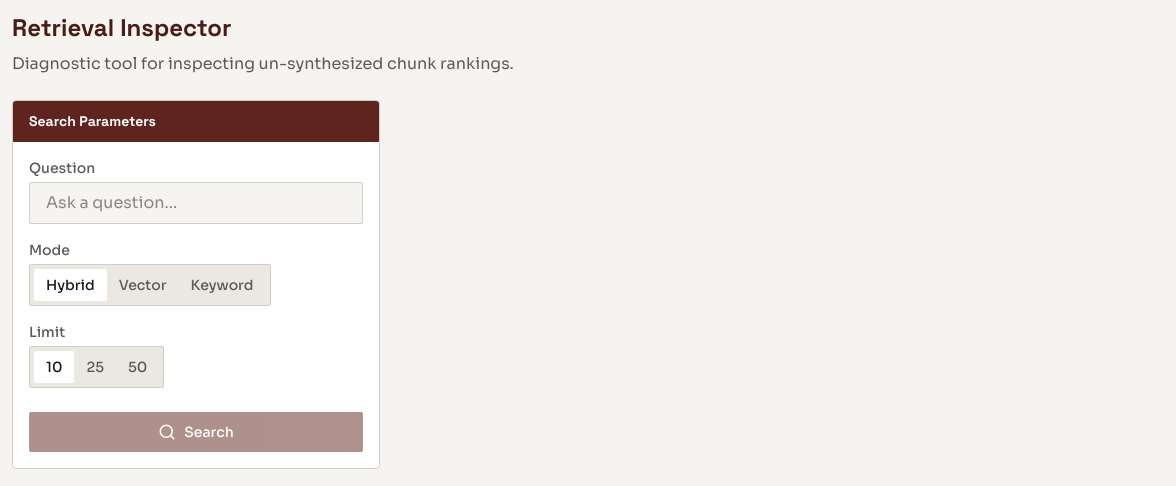
Test: SearchPage › distinguishes zero-match from idle
Type "gibberish" into the field with placeholder "Ask a question..." at [196, 203], box [29,182,363,224]
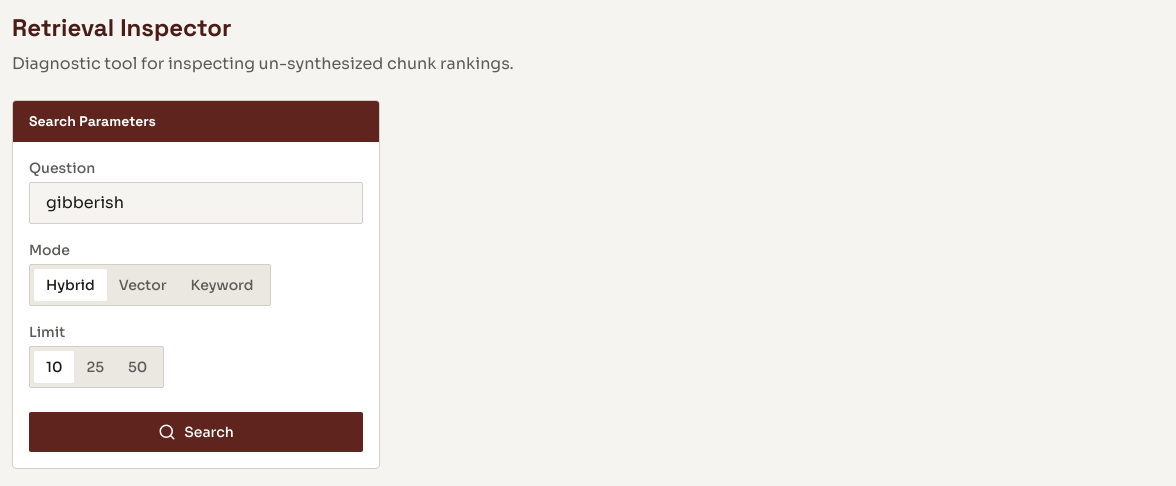
Click the button "Search" at [196, 432], box [29,412,363,452]
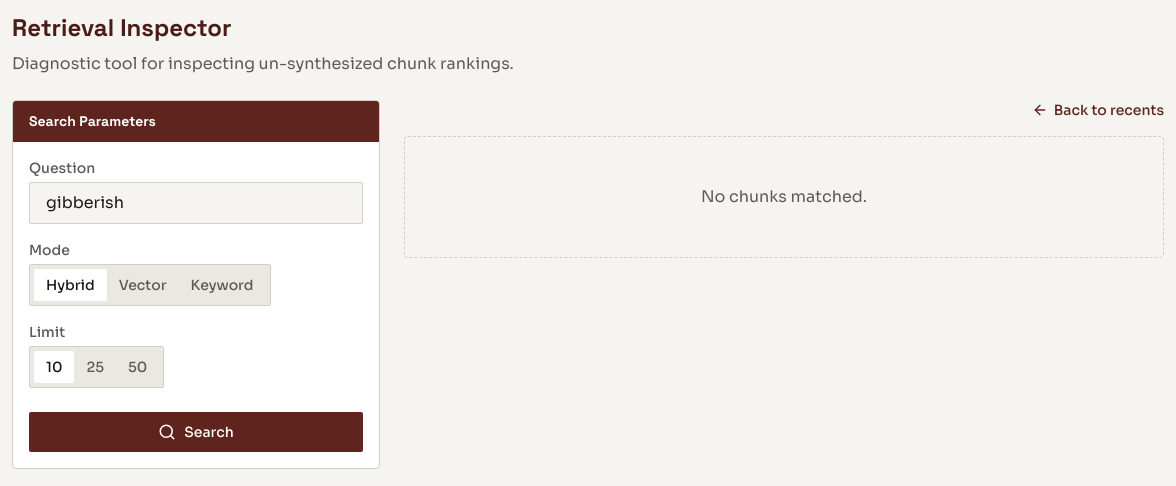
Check: the text "No chunks matched." is shown, box [404,136,1164,258]
